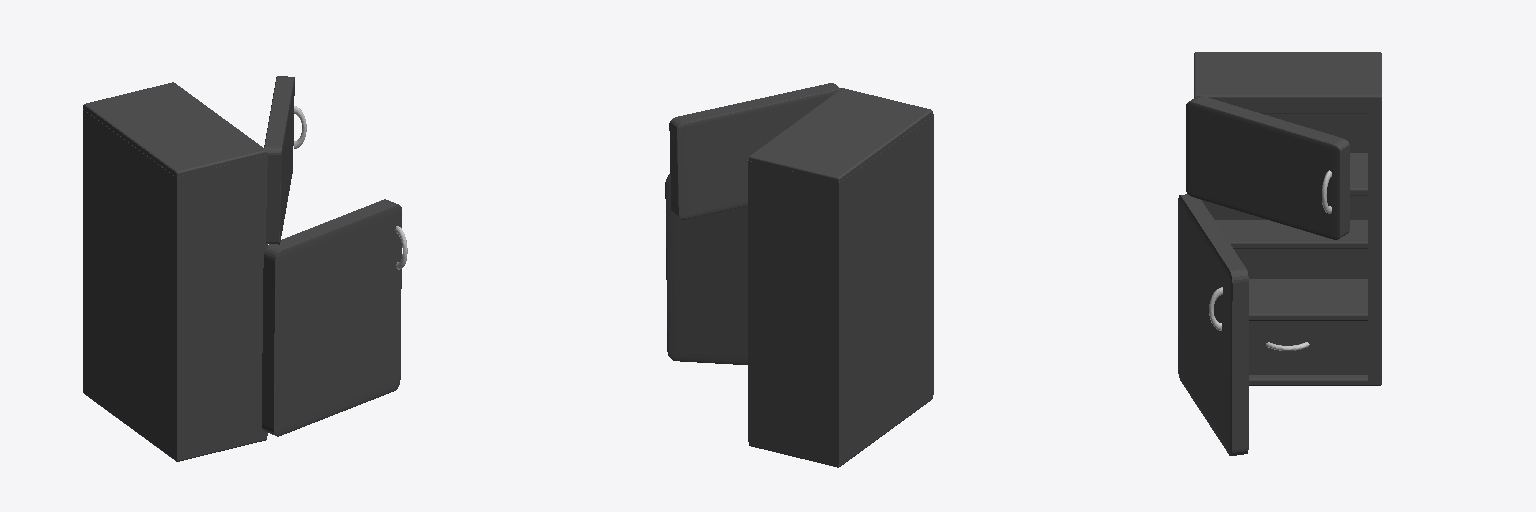
Rendered from geladeira.obj.
The picture shows the model from 3 angles: view 1: azimuth 30°, elevation 25°; view 2: azimuth 150°, elevation 25°; view 3: azimuth 270°, elevation 25°; orthographic projection.
Parts seen in each view (by area): view 1: Cube_Mesh.001, back_2_Mesh.013, right_side_Mesh.016, top_Mesh.014, Cube_2_Mesh.008, bottom_Mesh.009; view 2: back_2_Mesh.013, left_side_Mesh.015, Cube_Mesh.001, Cube_2_Mesh.008, top_Mesh.014, bottom_Mesh.009; view 3: Cube_2_Mesh.008, Cube_Mesh.001, top_Mesh.014, back_2_Mesh.013, door_Mesh.006, layer3_Mesh.012, left_side_Mesh.015, layer2_Mesh.010, bottom_Mesh.009, layer1_Mesh.011.
Part boxes in pixels (x1,y1,x2,y2): Cube_Mesh.001: (262,199,401,436); back_2_Mesh.013: (83,109,175,456); right_side_Mesh.016: (170,155,267,457); top_Mesh.014: (83,82,266,176); Cube_2_Mesh.008: (264,76,294,244); bottom_Mesh.009: (83,390,266,461); back_2_Mesh.013: (840,115,932,462); left_side_Mesh.015: (748,160,845,463); Cube_Mesh.001: (665,174,747,364); Cube_2_Mesh.008: (669,83,840,219); top_Mesh.014: (749,88,932,182); bottom_Mesh.009: (749,396,932,467); Cube_2_Mesh.008: (1186,96,1349,239); Cube_Mesh.001: (1178,194,1248,455); top_Mesh.014: (1194,52,1381,113); back_2_Mesh.013: (1207,114,1367,278); door_Mesh.006: (1249,321,1367,374); layer3_Mesh.012: (1249,279,1379,320); left_side_Mesh.015: (1368,100,1381,381); layer2_Mesh.010: (1215,220,1367,248); bottom_Mesh.009: (1249,375,1381,385); layer1_Mesh.011: (1350,153,1379,195).
Size of the model in its own units: 8.7 by 9.86 by 6.27.